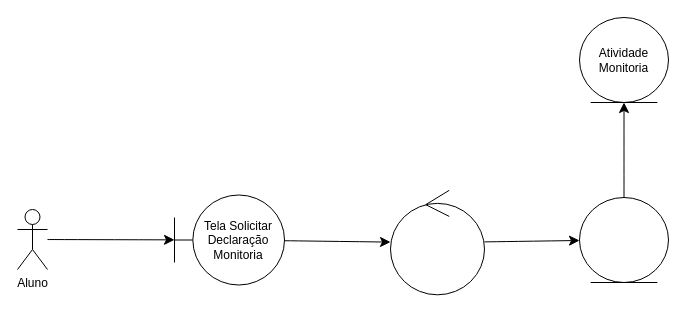
Image size: 686x313. Some labels were removed from this diagram. Each missing label, with the centre of its shape:
"Controlador Declaração Monitoria" belongs at point (437, 242).
"Declarações" belongs at point (623, 239).
